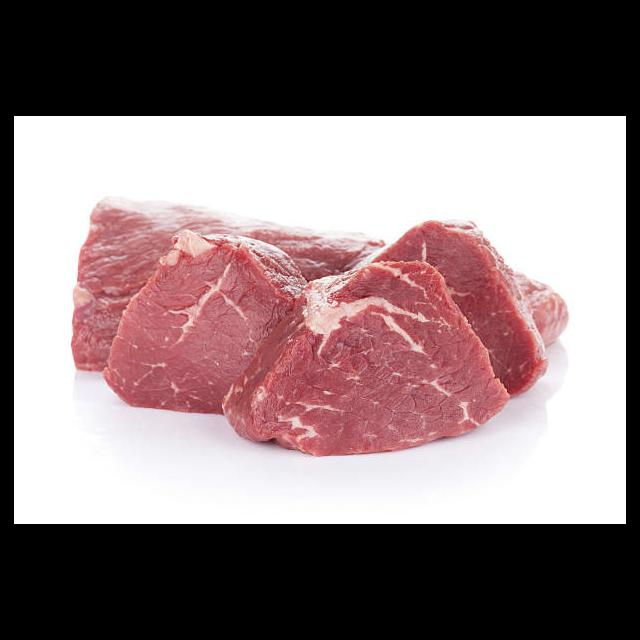beef: (69, 195, 569, 457)
